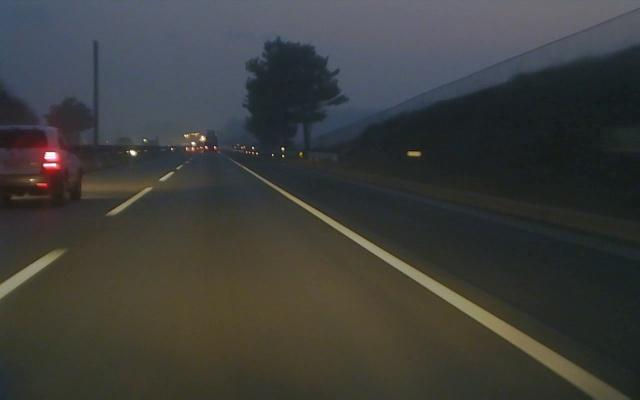lane: (225, 156, 638, 400), (0, 159, 191, 304)
